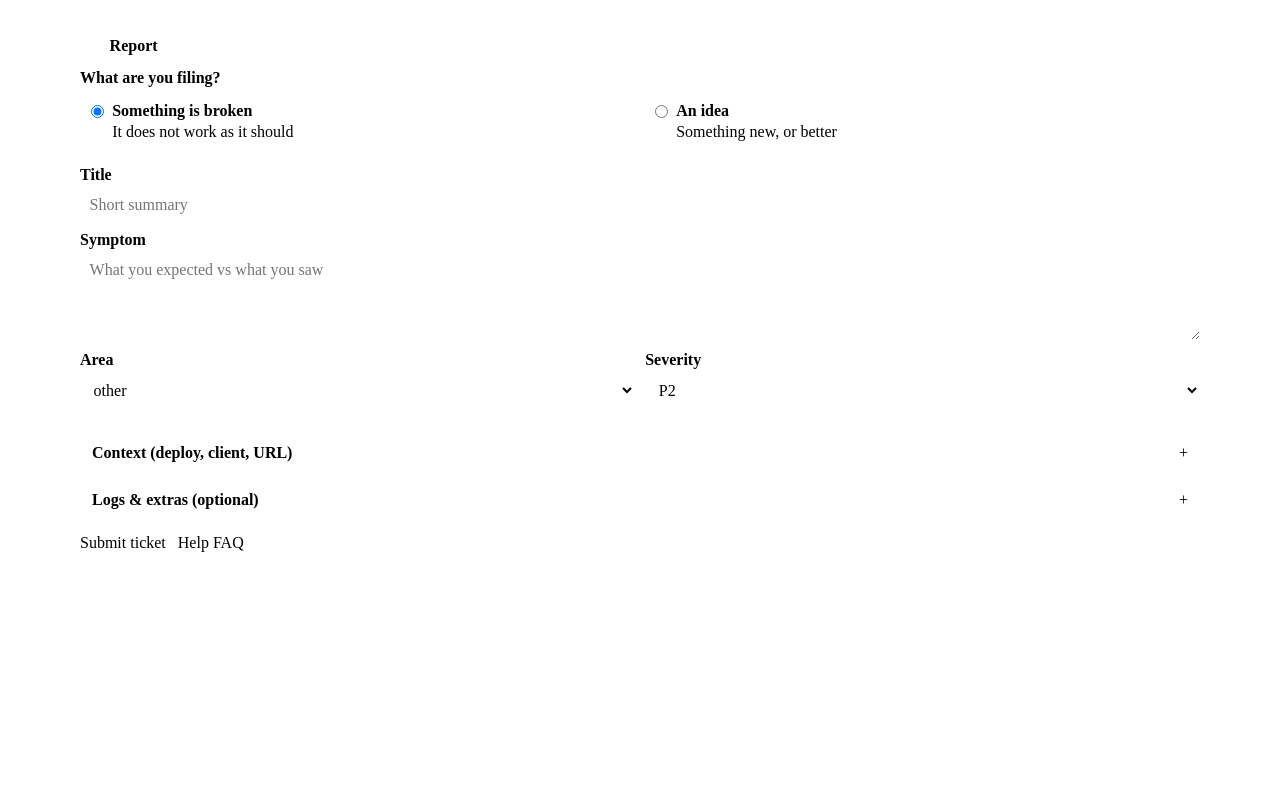
Test: expands logs fold when opened
Click the heading "Logs & extras (optional)".
click(175, 500)  # box left=92, top=491, right=259, bottom=508
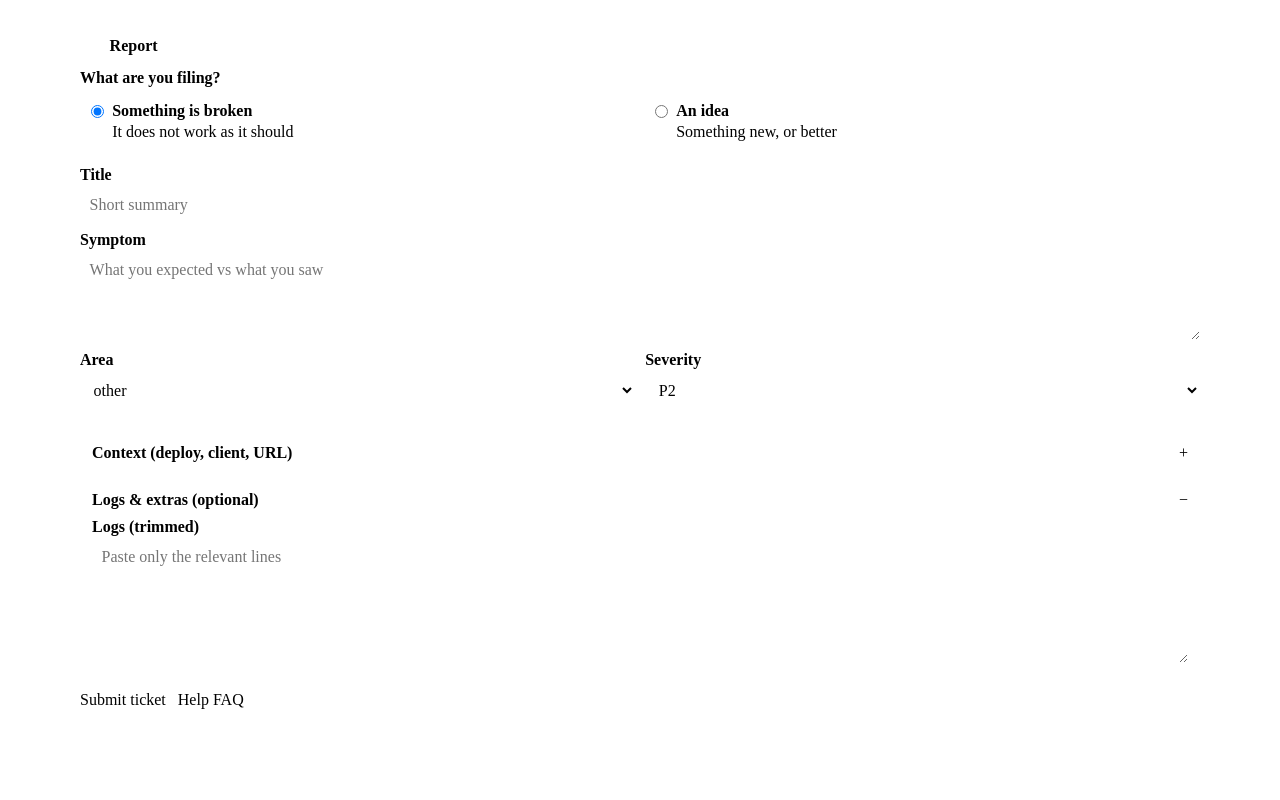
Now the text box with placeholder "Paste only the relevant lines" is shown, box left=92, top=541, right=1188, bottom=663
